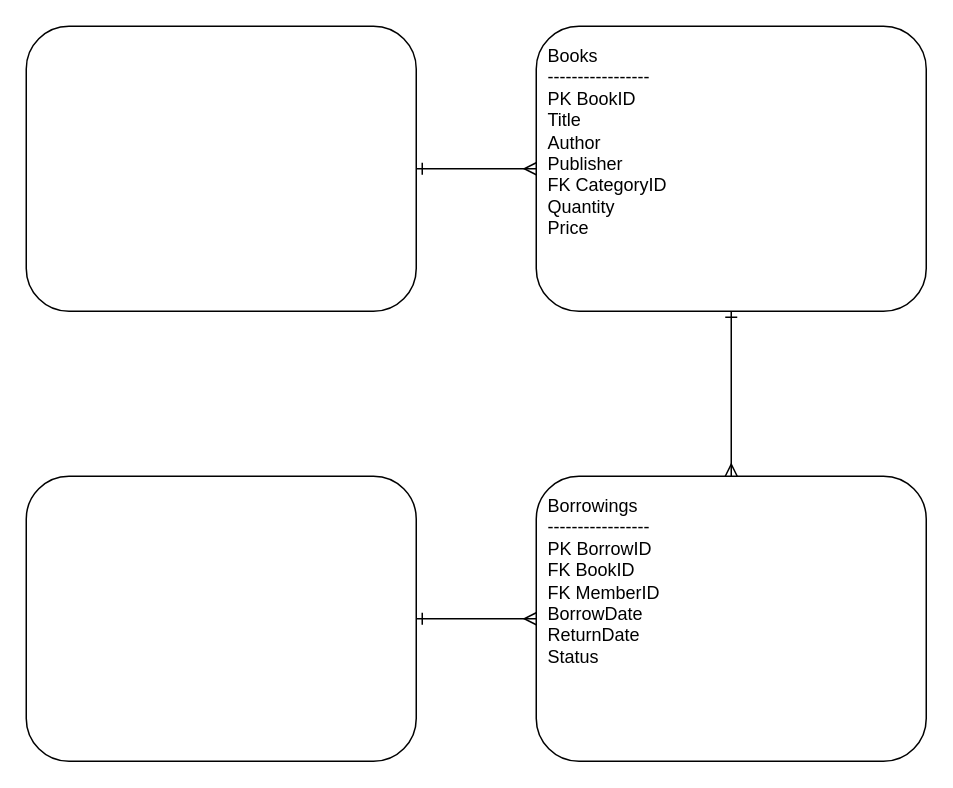
This 953x788 diagram has some shape labels left out. The centre of each missing label's shape, as x and y in pixels:
Categories ----------------- PK CategoryID CategoryName: the point at 220,168
Members ----------------- PK MemberID FullName Email Phone JoinDate: the point at 220,618
